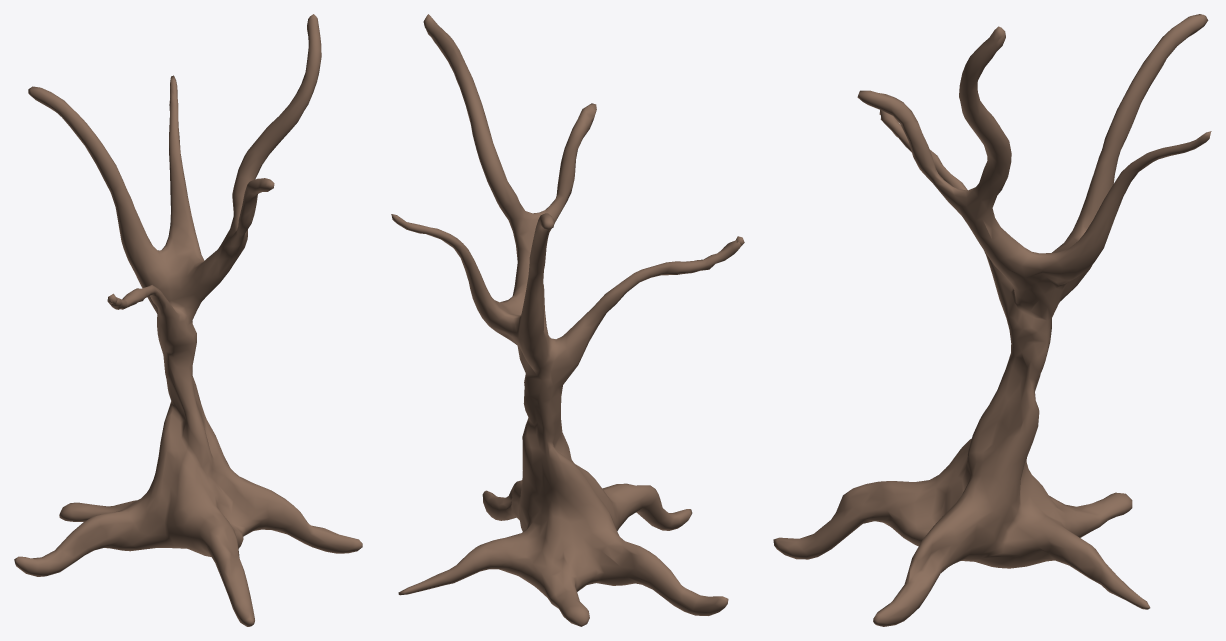
The model's file is treeFourthStage.glb.
3 views of the same model, side by side, from view 1: azimuth 30°, elevation 25°; view 2: azimuth 150°, elevation 25°; view 3: azimuth 270°, elevation 25° (orthographic). The views are drawn at different scales.
Visible parts, largest first — view 1: Cube.011; view 2: Cube.011; view 3: Cube.011.
Boxes of the visible parts, x1,y1,x2,y2 form: Cube.011: [14, 14, 362, 626]; Cube.011: [391, 14, 744, 626]; Cube.011: [773, 14, 1211, 626].
Bounding box in the file's own units: 7.82 × 12.97 × 8.3.
